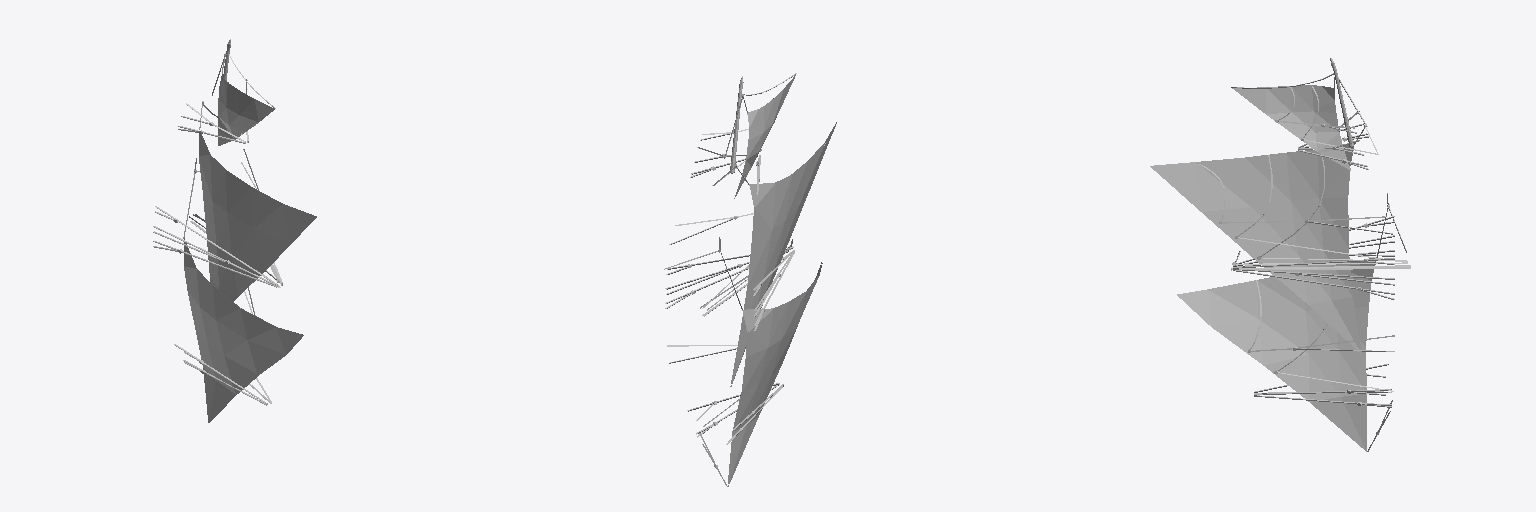
The model's file is xebec_sail.obj.
3 renders of one model, left to right at view 1: azimuth 30°, elevation 25°; view 2: azimuth 150°, elevation 25°; view 3: azimuth 270°, elevation 25°, orthographic.
Visible parts, largest first — view 1: Object; view 2: Object; view 3: Object.
Part boxes in pixels (x1,y1,x2,y2): Object: (153, 39, 316, 422); Object: (664, 73, 836, 486); Object: (1150, 58, 1410, 451).
Bounding box in the file's own units: 3.48 × 14.5 × 8.65.